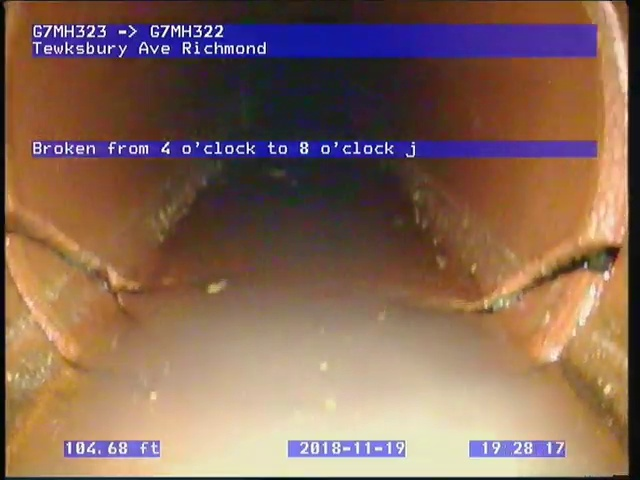crack: (5, 193, 154, 327), (456, 240, 626, 318)
